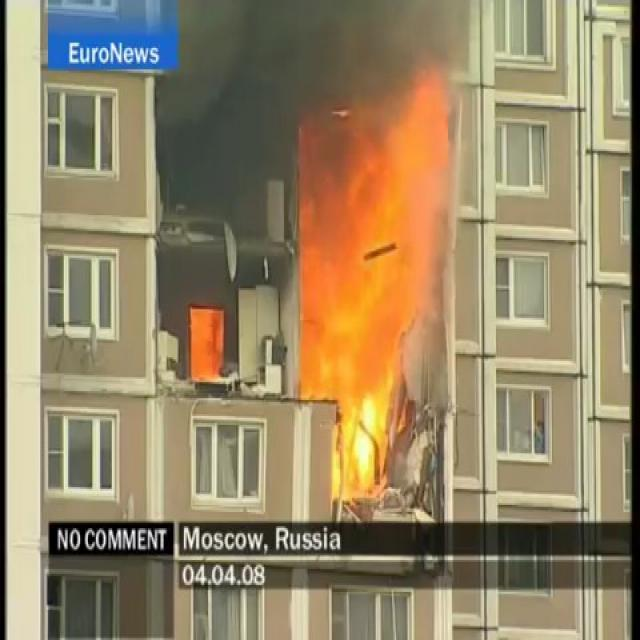fire: (300, 73, 443, 489), (192, 308, 227, 384)
